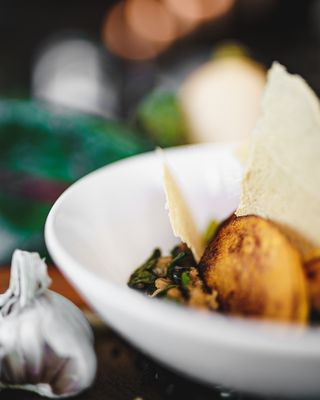sushi: (42, 134, 320, 398)
taco: (98, 0, 239, 62)
